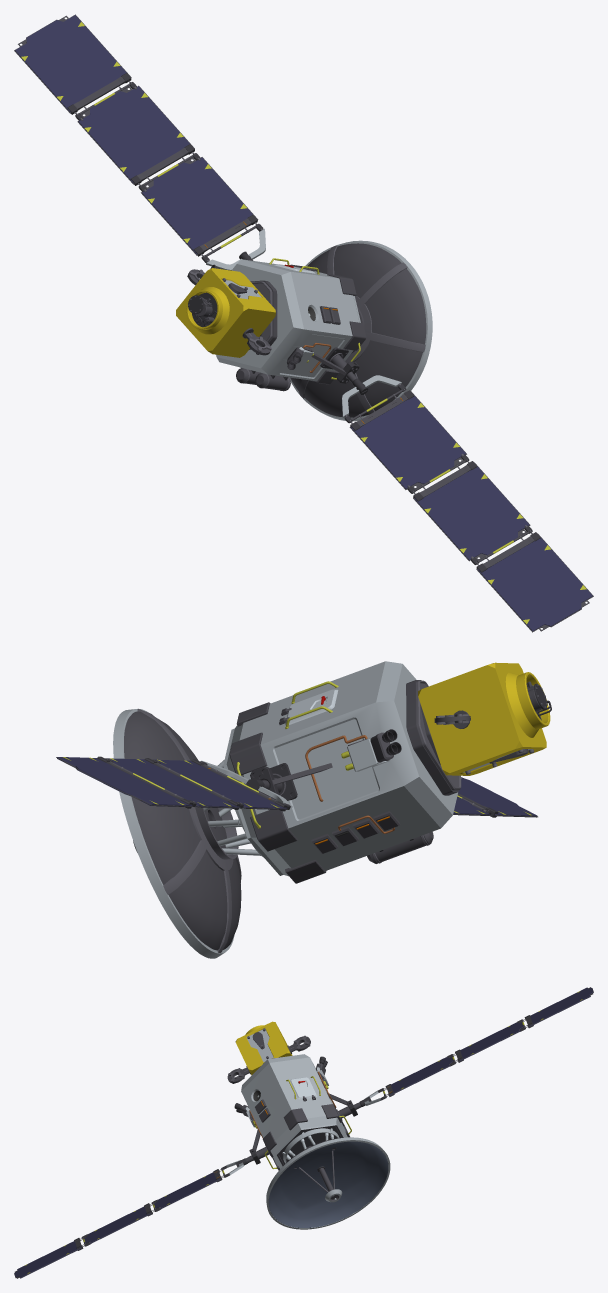
File: Satellite.fbx
The picture shows the model from 3 angles, top to bottom: view 1: azimuth 30°, elevation 25°; view 2: azimuth 150°, elevation 25°; view 3: azimuth 270°, elevation 25°; orthographic projection. The views are drawn at different scales.
Visible parts, largest first — view 1: polySurface22 (×2), polySurface21 (×2), polySurface6 (×2), pCube86, pCylinder193, pCube162, pCylinder75; view 2: pCylinder193, pCube86, pCube162, polySurface22 (×2), pCylinder75, polySurface21, polySurface6, pCube85, pCylinder181, pCylinder180, pCylinder30, pCube104 (+14 smaller); view 3: pCube86, pCylinder193, pCube162, polySurface22 (×2), polySurface21 (×2), polySurface6 (×2), pCylinder75, pCylinder234, pCube104.
Boxes of the visible parts, box(x1,y1,x2,y2) form: polySurface22 (×2): box(15, 15, 592, 631); polySurface21 (×2): box(78, 86, 529, 560); polySurface6 (×2): box(142, 157, 465, 488); pCube86: box(290, 243, 426, 417); pCylinder193: box(216, 259, 359, 381); pCube162: box(176, 268, 275, 357); pCylinder75: box(289, 240, 432, 421); pCylinder193: box(226, 661, 461, 876); pCube86: box(124, 711, 241, 950); pCube162: box(418, 662, 546, 775); polySurface22 (×2): box(57, 757, 537, 817); pCylinder75: box(113, 708, 234, 958); polySurface21: box(108, 758, 239, 808); polySurface6: box(154, 759, 286, 809); pCube85: box(406, 680, 458, 795); pCylinder181: box(250, 809, 297, 851); pCylinder180: box(229, 732, 267, 775); pCylinder30: box(516, 672, 550, 729); pCube104: box(285, 689, 338, 725); pCube86: box(268, 1137, 388, 1227); pCylinder193: box(241, 1054, 347, 1168); pCube162: box(235, 1021, 292, 1075); polySurface22 (×2): box(14, 987, 593, 1278); polySurface21 (×2): box(84, 1022, 523, 1243); polySurface6 (×2): box(154, 1057, 453, 1209); pCylinder75: box(266, 1137, 390, 1229); pCylinder234: box(276, 1124, 343, 1165); pCube104: box(289, 1077, 317, 1099).
Size of the model in its own units: 29.42 by 38 by 79.49.
